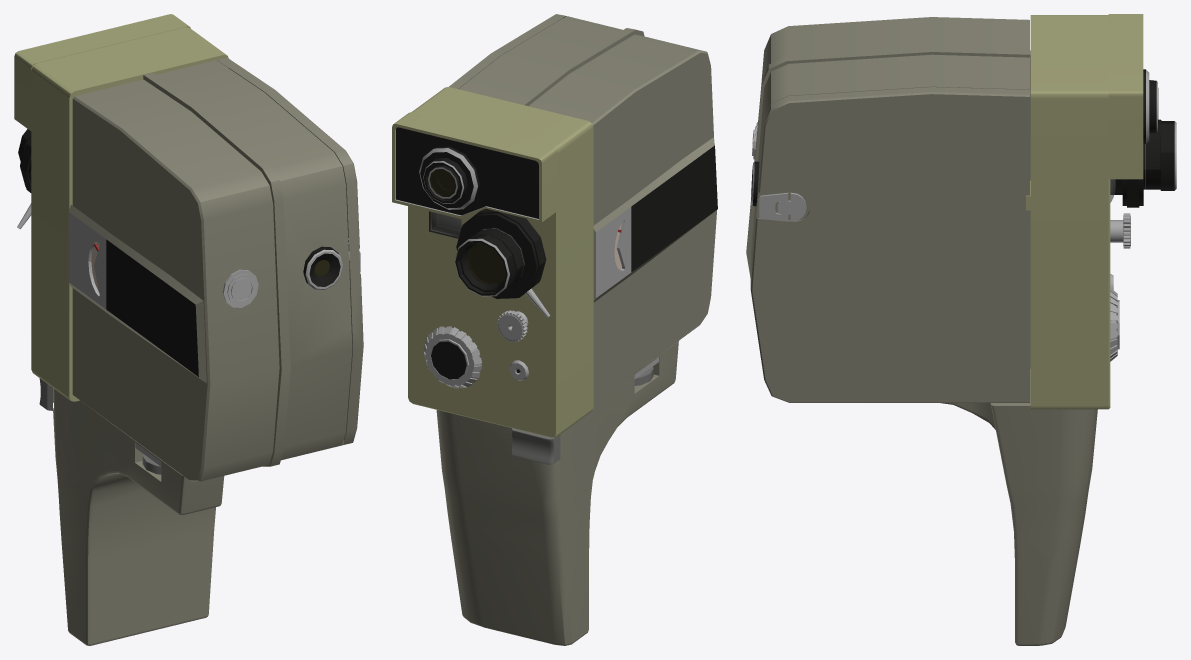
Rendered from _urora.fbx.
The picture shows the model from 3 angles, left to right: view 1: azimuth 30°, elevation 25°; view 2: azimuth 150°, elevation 25°; view 3: azimuth 270°, elevation 25°; orthographic projection. The views are drawn at different scales.
Parts seen in each view (by area): view 1: pCube6, pCube32, polySurface6, pCube30, pCube34, pCube7, polySurface5, pCube4, pCylinder13; view 2: pCube30, pCube32, pCube6, pCube4, pCube34, polySurface6, pCylinder8, pCylinder1, polySurface1, pCylinder3, pCylinder23, pCube7 (+8 smaller); view 3: polySurface5, pCube30, pCube32, polySurface6, pCube6, pCube4, pCube7, polySurface1, pCylinder3, pCylinder8, pCube15.
Boxes of the visible parts, <box> form: pCube6: <box>72,79,279,481</box>; pCube32: <box>53,389,224,645</box>; polySurface6: <box>156,60,352,460</box>; pCube30: <box>31,27,228,401</box>; pCube34: <box>68,204,206,383</box>; pCube7: <box>143,72,290,466</box>; polySurface5: <box>217,57,363,445</box>; pCube4: <box>14,14,190,130</box>; pCylinder13: <box>303,247,342,289</box>; pCube30: <box>408,87,593,437</box>; pCube32: <box>436,341,678,645</box>; pCube6: <box>528,34,716,402</box>; pCube4: <box>392,112,557,222</box>; pCube34: <box>593,137,717,302</box>; polySurface6: <box>459,16,622,102</box>; pCylinder8: <box>423,326,481,388</box>; pCylinder1: <box>456,213,546,298</box>; polySurface1: <box>454,234,515,296</box>; pCylinder3: <box>469,228,524,291</box>; pCylinder23: <box>419,146,479,209</box>; pCube7: <box>516,28,644,105</box>; polySurface5: <box>750,87,1029,402</box>; pCube30: <box>1026,15,1110,409</box>; pCube32: <box>941,368,1097,645</box>; polySurface6: <box>750,54,1029,283</box>; pCube6: <box>761,17,1029,83</box>; pCube4: <box>1108,14,1143,179</box>; pCube7: <box>746,47,1030,368</box>; polySurface1: <box>1160,121,1176,190</box>; pCylinder3: <box>1145,119,1161,189</box>; pCylinder8: <box>1110,288,1119,361</box>; pCube15: <box>759,192,788,221</box>.
Bounding box in the file's own units: 6.23 × 20.29 × 13.86.
